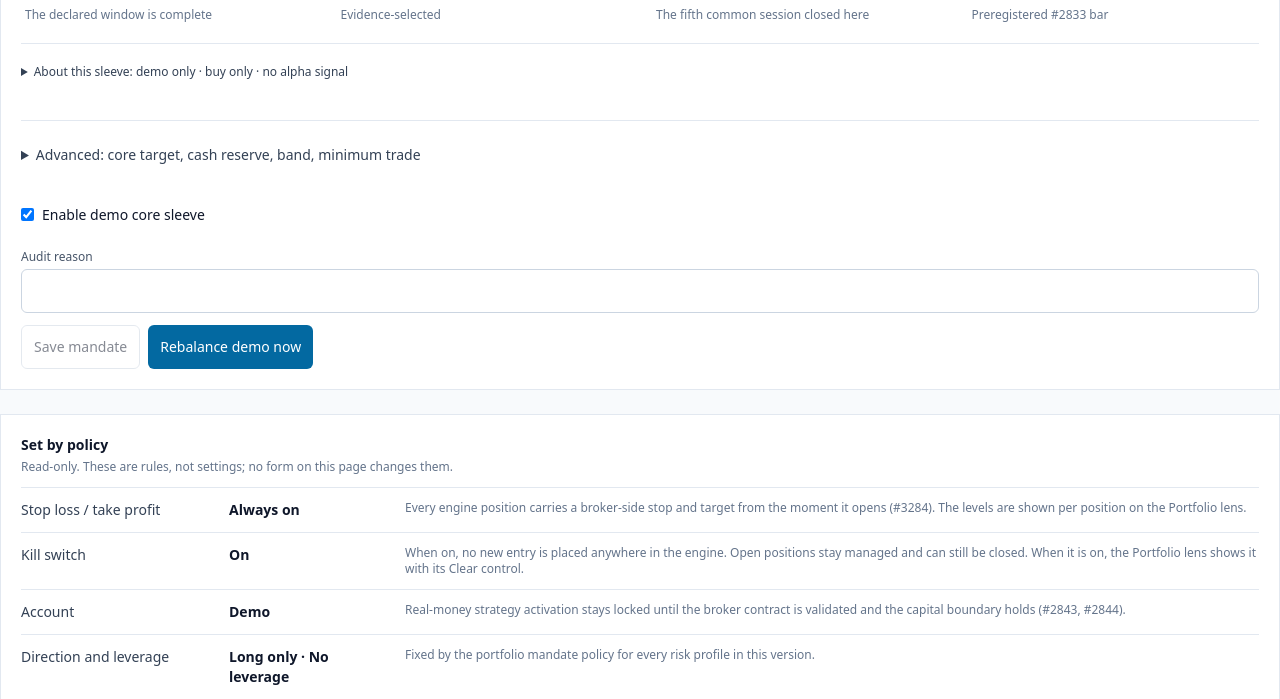
Test case: StrategyPortfolioLens › confirms a demo rebalance and labels acceptance as pending reconciliation
(page scrolled)
What coordinates should you click on to do the following:
click the button "Rebalance demo now"
I would click on:
 (231, 346)
Its box is x1=148 y1=324 x2=313 y2=368.
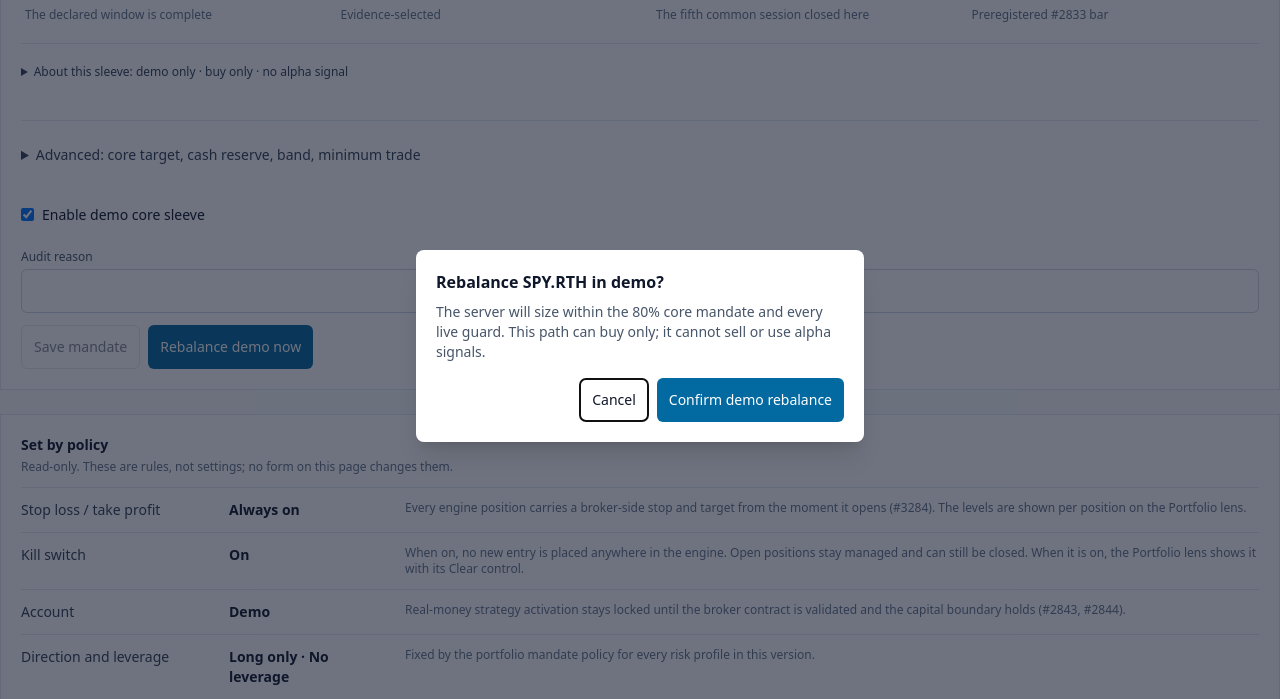
What coordinates should you click on to do the following:
click the button "Confirm demo rebalance"
I would click on:
 (750, 400)
Its box is x1=657 y1=378 x2=844 y2=422.
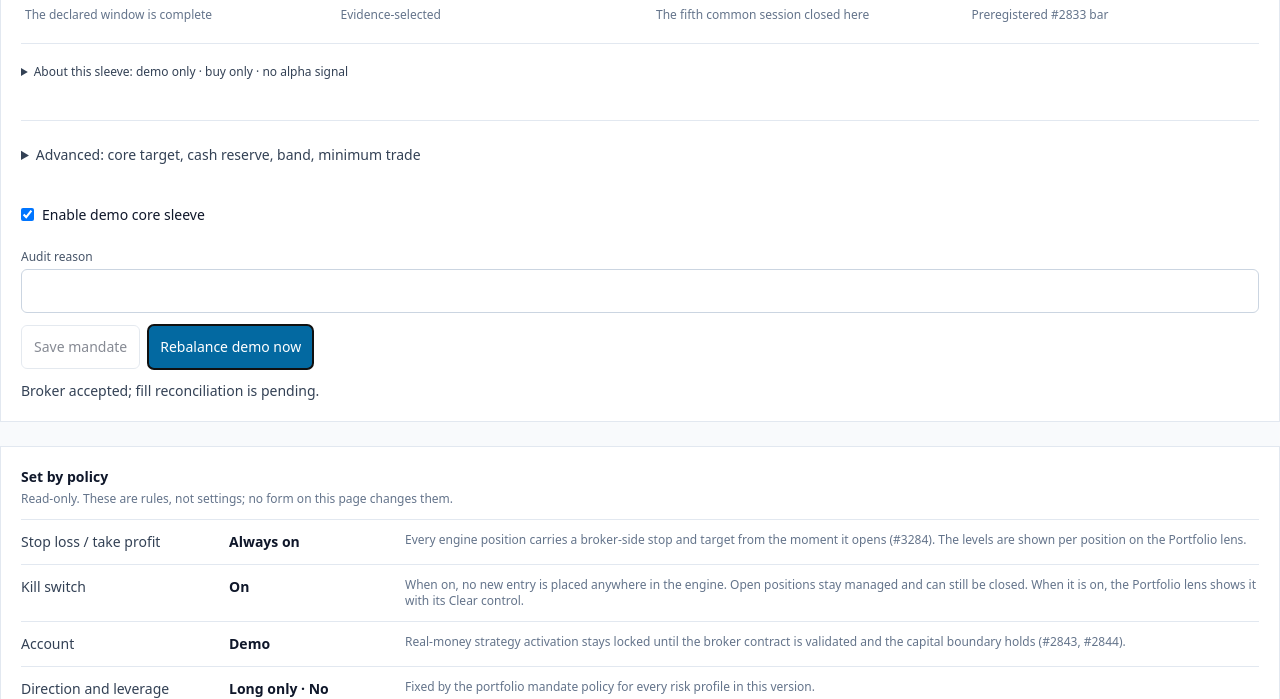
expect the message shows "Broker accepted; fill reconciliation is pending": met, box x1=21 y1=380 x2=319 y2=400
